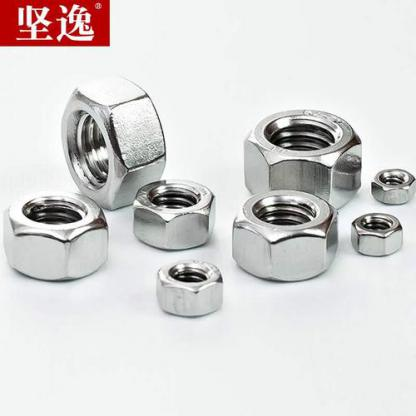FOD: (55, 72, 170, 204), (237, 102, 365, 216), (230, 187, 343, 284), (0, 192, 111, 284), (126, 181, 223, 252), (152, 257, 228, 320), (348, 211, 407, 258), (369, 166, 415, 207)
